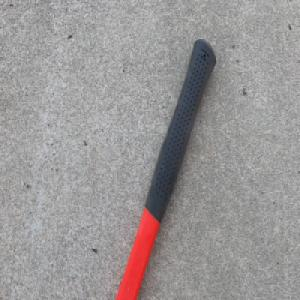Hammer: (111, 36, 216, 300)
